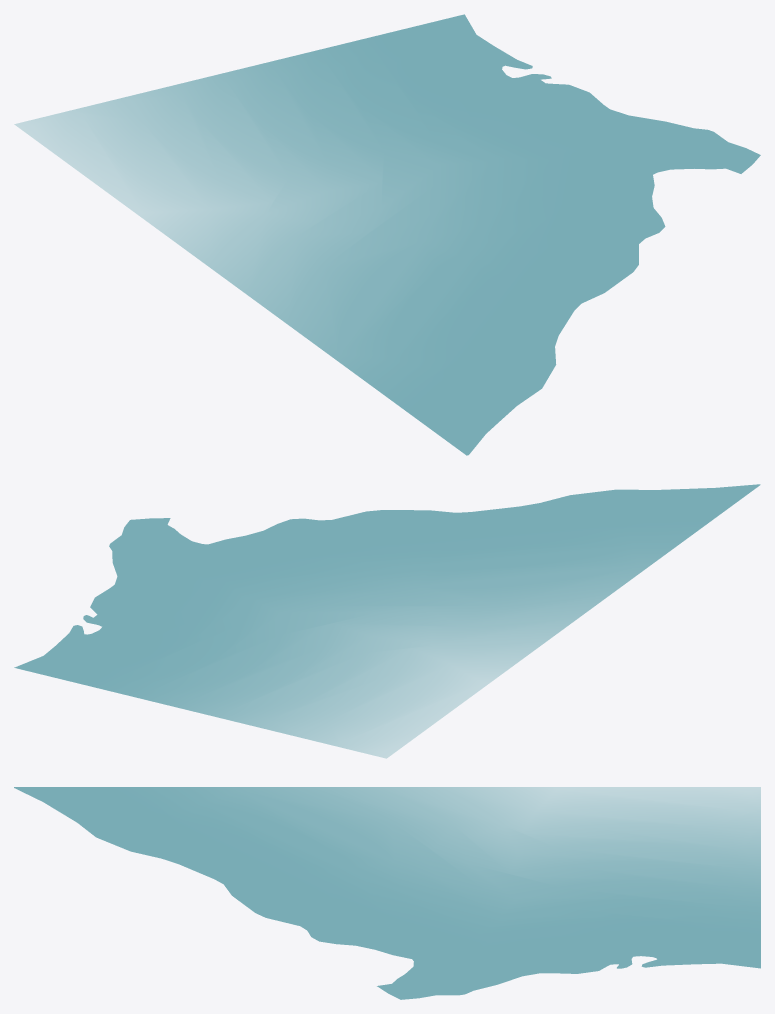
The picture shows the model from 3 angles, top to bottom: view 1: azimuth 30°, elevation 25°; view 2: azimuth 150°, elevation 25°; view 3: azimuth 270°, elevation 25°; orthographic projection. The views are drawn at different scales.
Parts seen in each view (by area): view 1: city; view 2: city; view 3: city.
Part boxes in pixels (x1=…): city: x1=14, y1=14, x2=760, y2=455; city: x1=14, y1=484, x2=760, y2=758; city: x1=14, y1=787, x2=760, y2=999.
Bounding box in the file's own units: 337 × 0 × 500.
